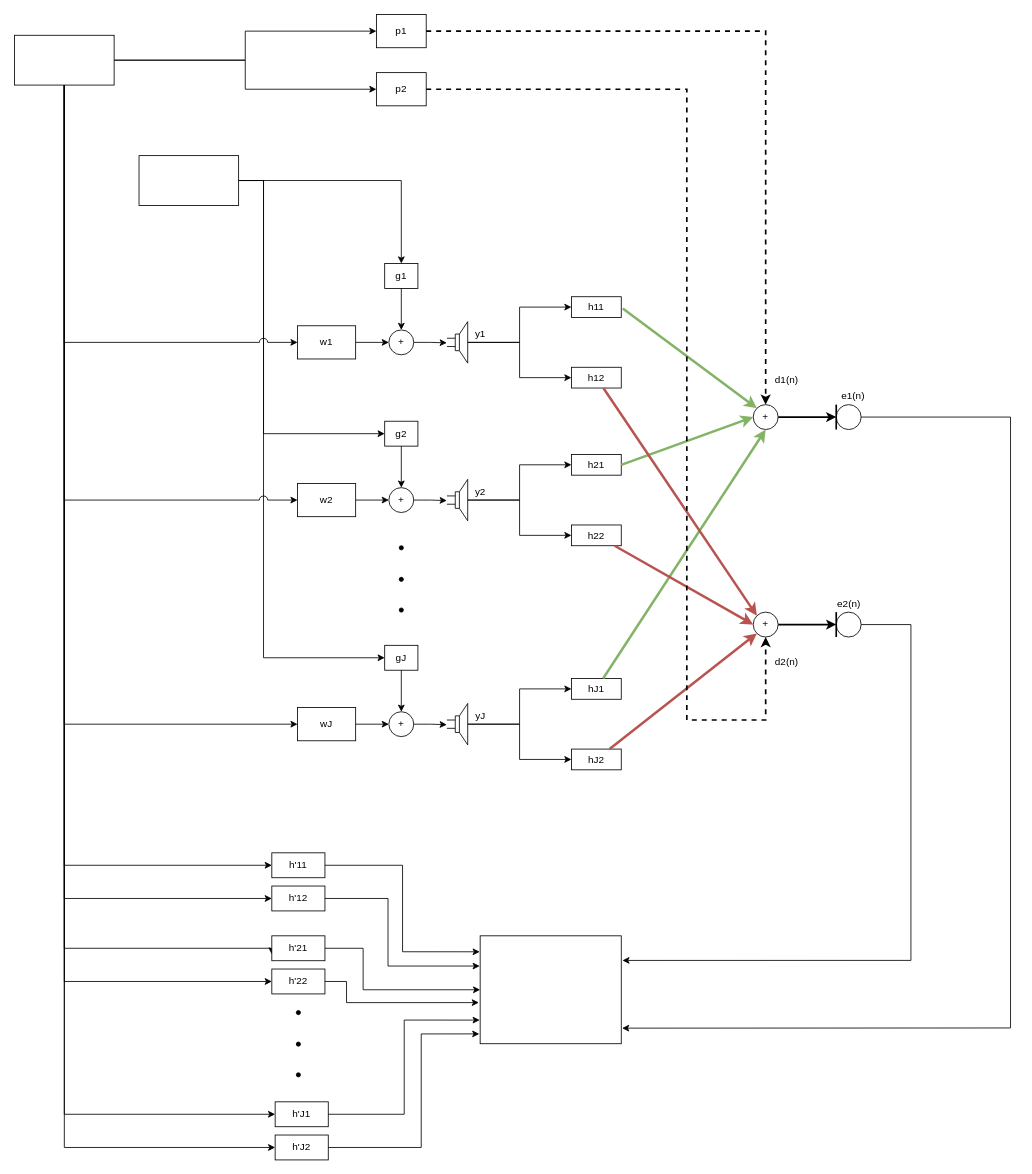
This 1032x1174 diagram has some shape labels left out. Each missing label, with the centre of its shape:
"BEAMFORMER" belongs at point 188,180.
"FILTERED-X LMS COMPUTE wj" belongs at point 550,989.
"NOISE" belongs at point 64,59.
